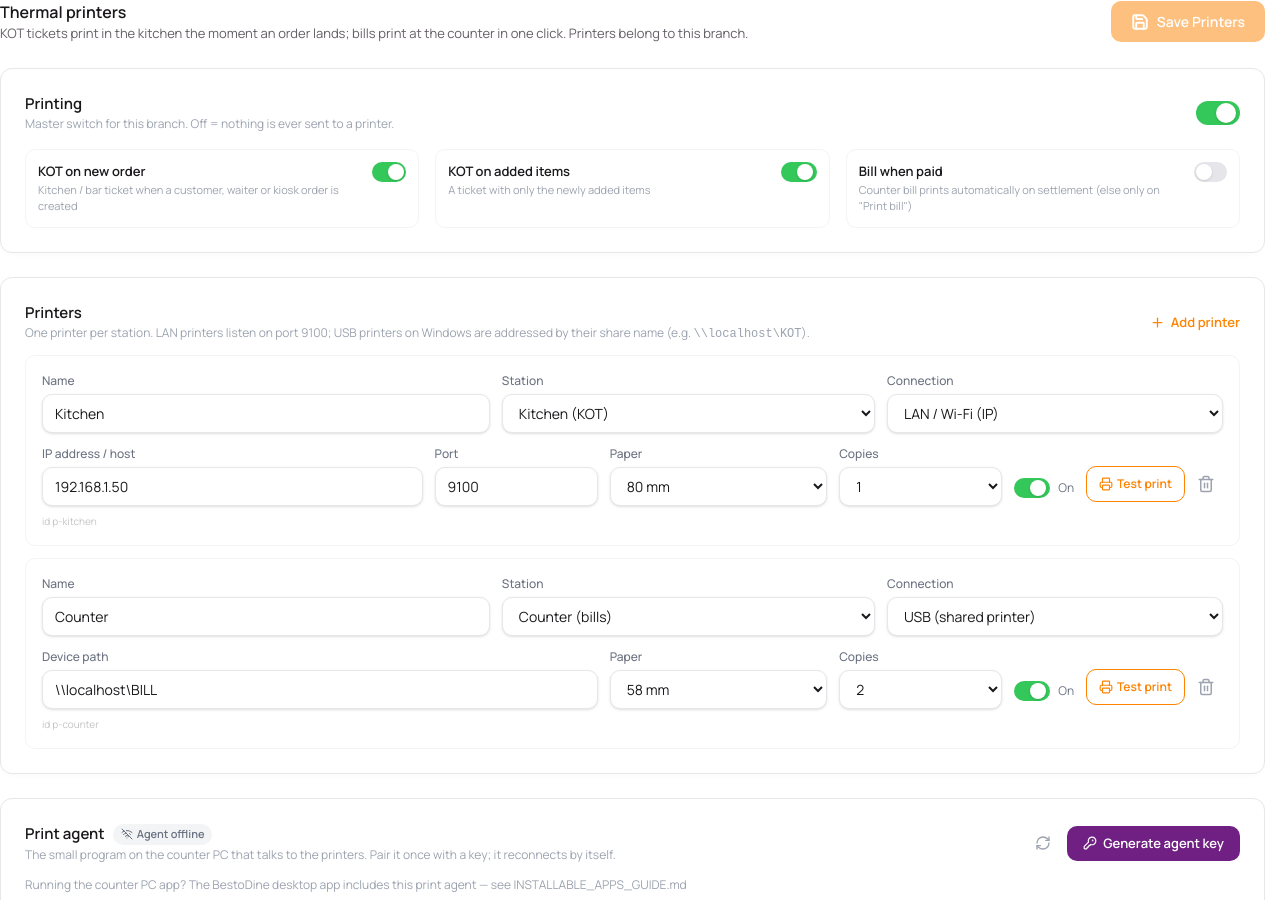
Test: PrinterSettings — test print and agent key › Generate agent key shows the token once with the config snippet and copies it
This screenshot has width=1280, height=900.
Expected: the element with test id "agent-status" reads "Agent offline", x1=137 y1=826 x2=204 y2=841
Click the button "Generate agent key".
click(1154, 843)  # box x1=1067 y1=826 x2=1240 y2=861
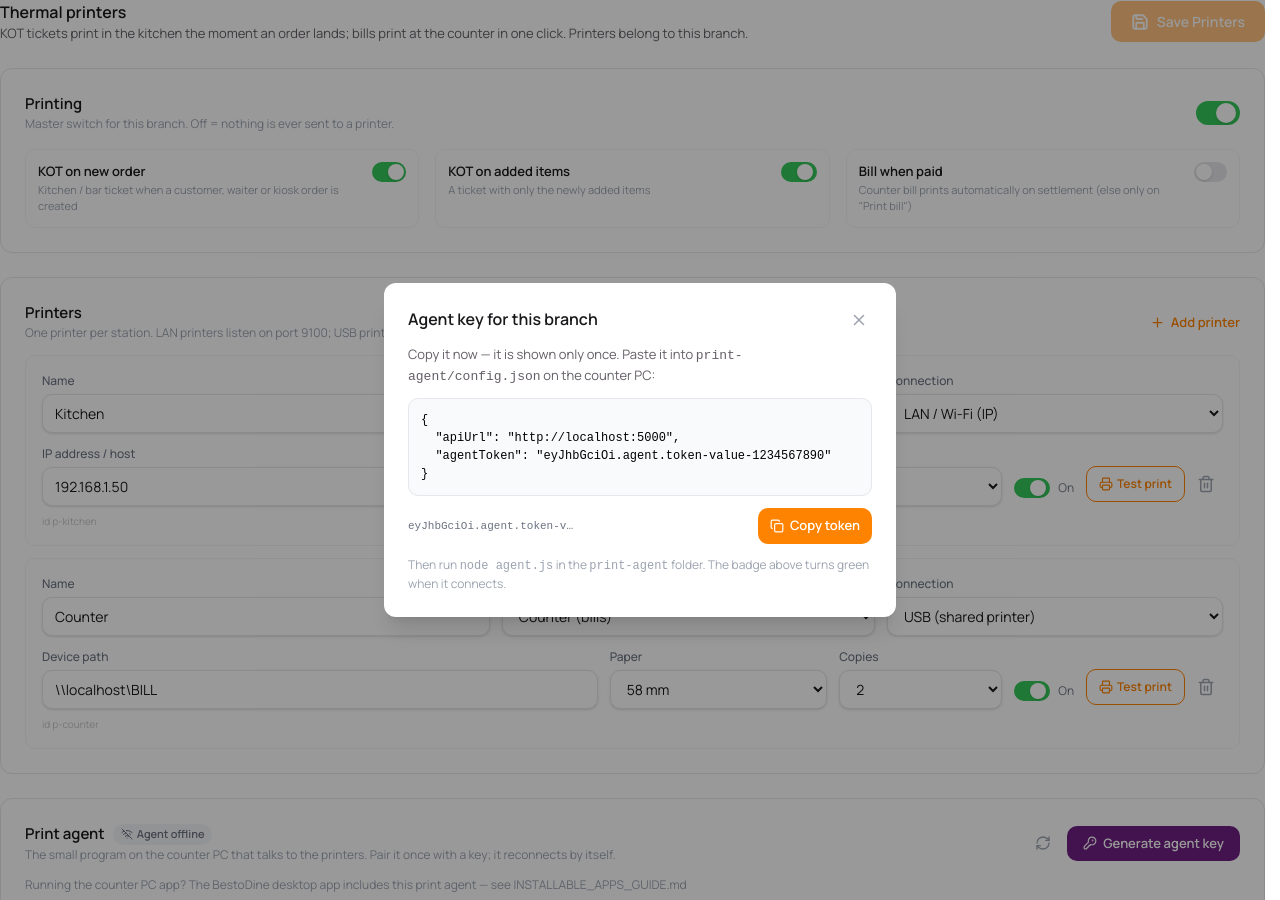
Now the text "shown only once" is shown, box x1=408 y1=345 x2=696 y2=363
Now the text "\"apiUrl\": \"http://localhost:5000\"" is shown, box x1=421 y1=413 x2=832 y2=481
Click the button "Copy token".
click(815, 526)  # box x1=758 y1=508 x2=872 y2=544
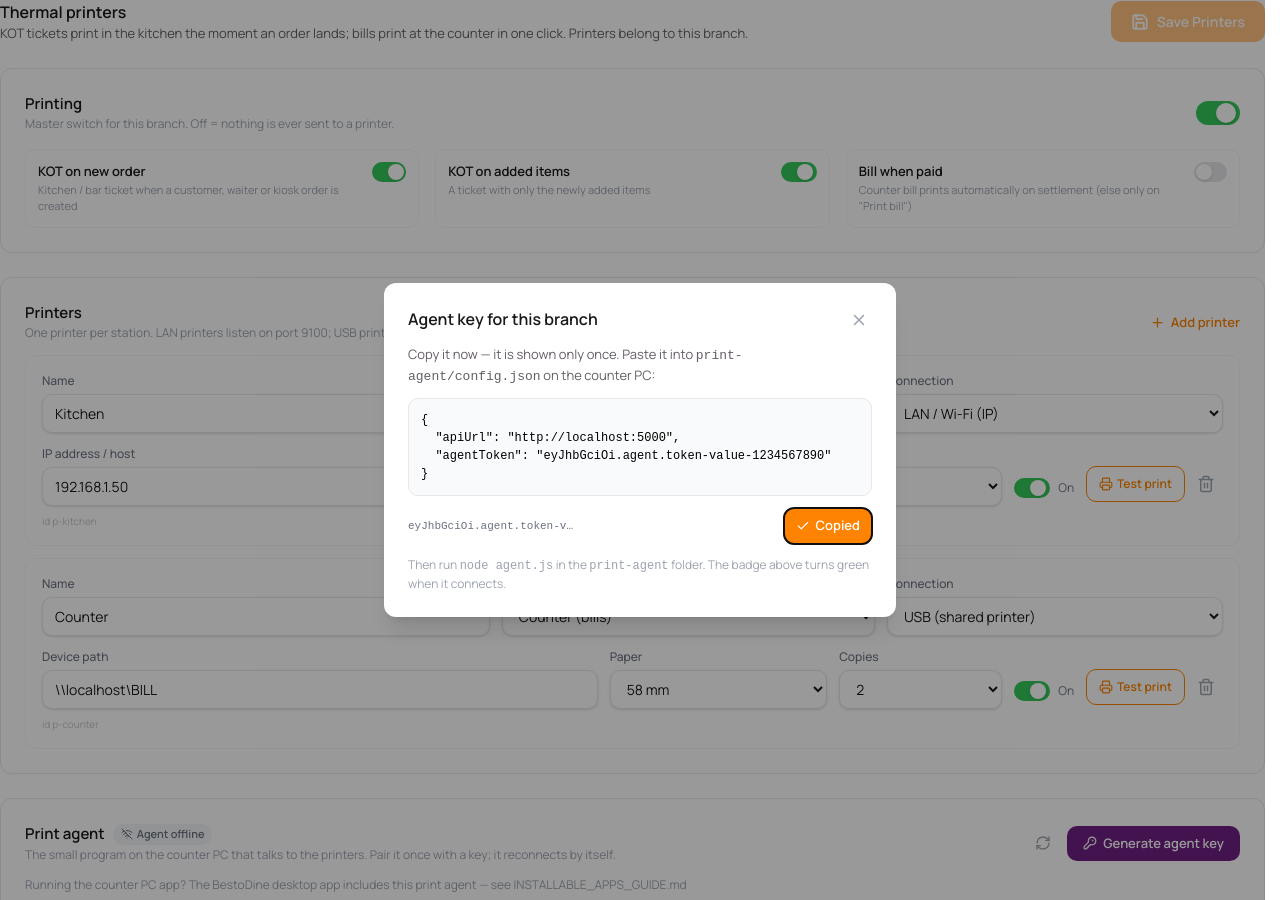
Click the button named "Close".
click(859, 320)  # box x1=846 y1=307 x2=872 y2=333
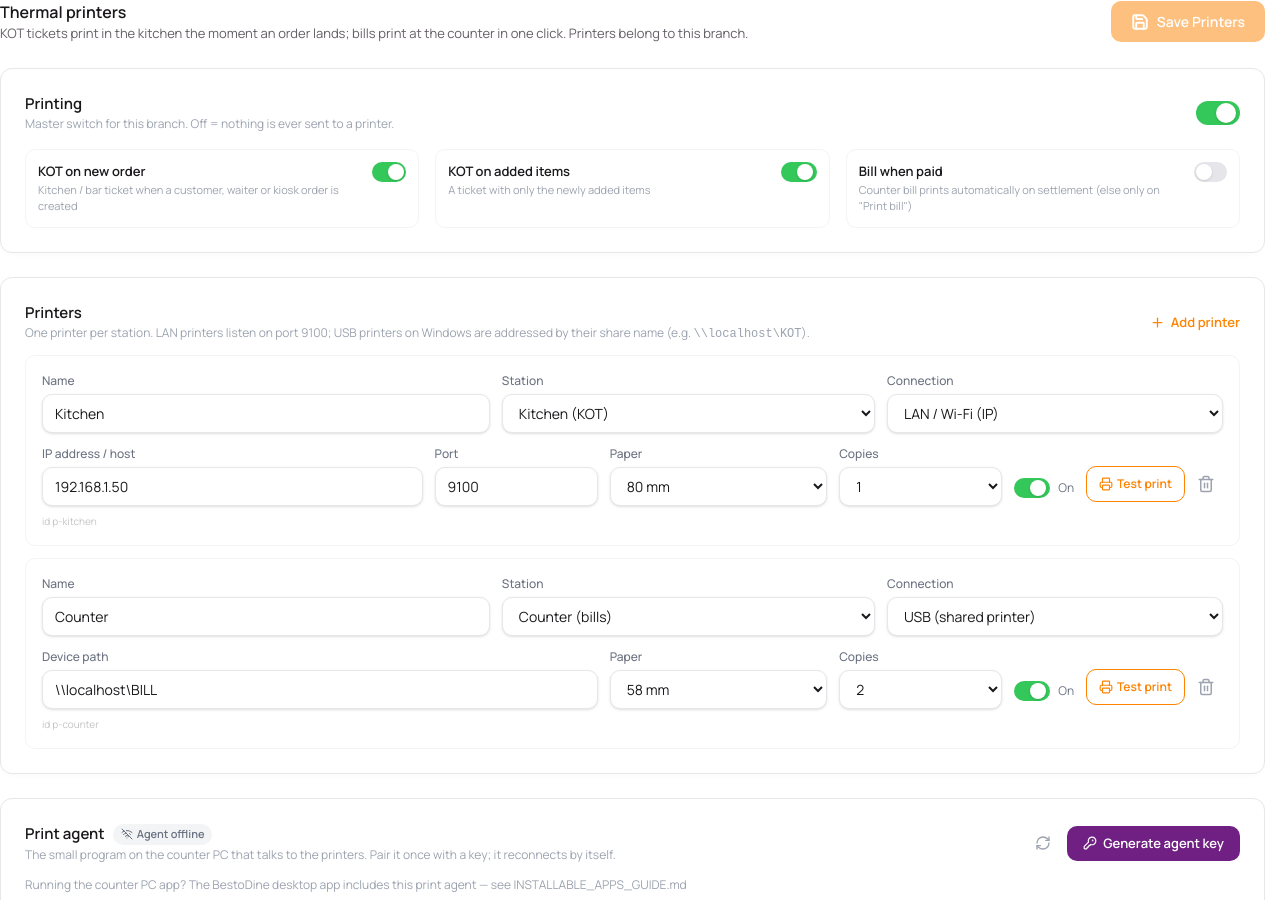
Now the dialog is gone
